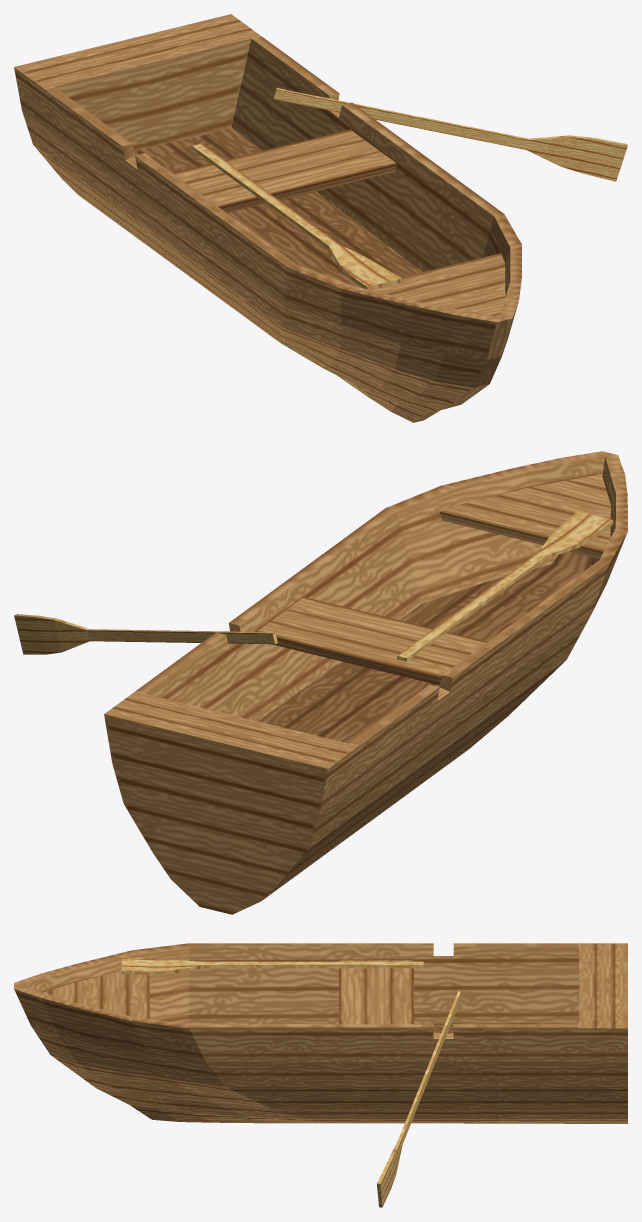
Rendered from boat (2).fbx.
3 renders of one model, top to bottom at view 1: azimuth 30°, elevation 25°; view 2: azimuth 150°, elevation 25°; view 3: azimuth 270°, elevation 25°, orthographic. The views are drawn at different scales.
Visible parts, largest first — view 1: Boat; view 2: Boat; view 3: Boat.
Part boxes in pixels (left/top/right/bottom): Boat: left=14, top=14, right=627, bottom=422; Boat: left=14, top=451, right=627, bottom=914; Boat: left=14, top=943, right=627, bottom=1207.
Size of the model in its own units: 288 by 109 by 416.
